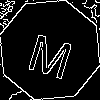M: (25, 25, 78, 80)
